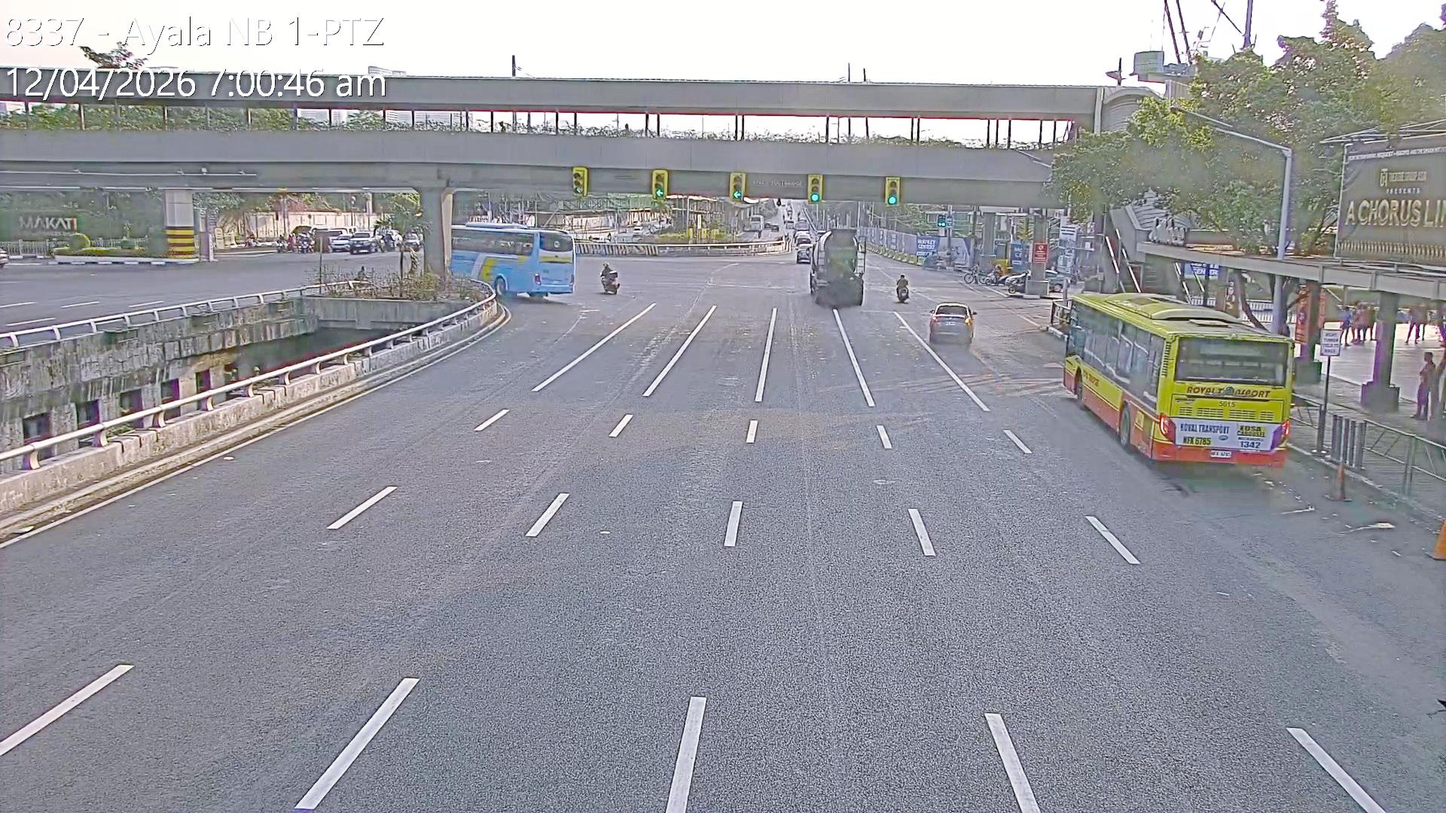Car: (927, 299, 979, 347), (349, 230, 381, 254), (796, 242, 817, 266), (331, 232, 353, 253), (796, 233, 813, 248), (815, 228, 828, 243)
Motor: (597, 259, 623, 297), (1008, 270, 1033, 293), (984, 264, 1010, 286), (895, 271, 911, 303), (922, 249, 944, 272), (285, 231, 300, 255), (301, 232, 315, 255), (275, 232, 288, 254), (245, 231, 259, 249)
